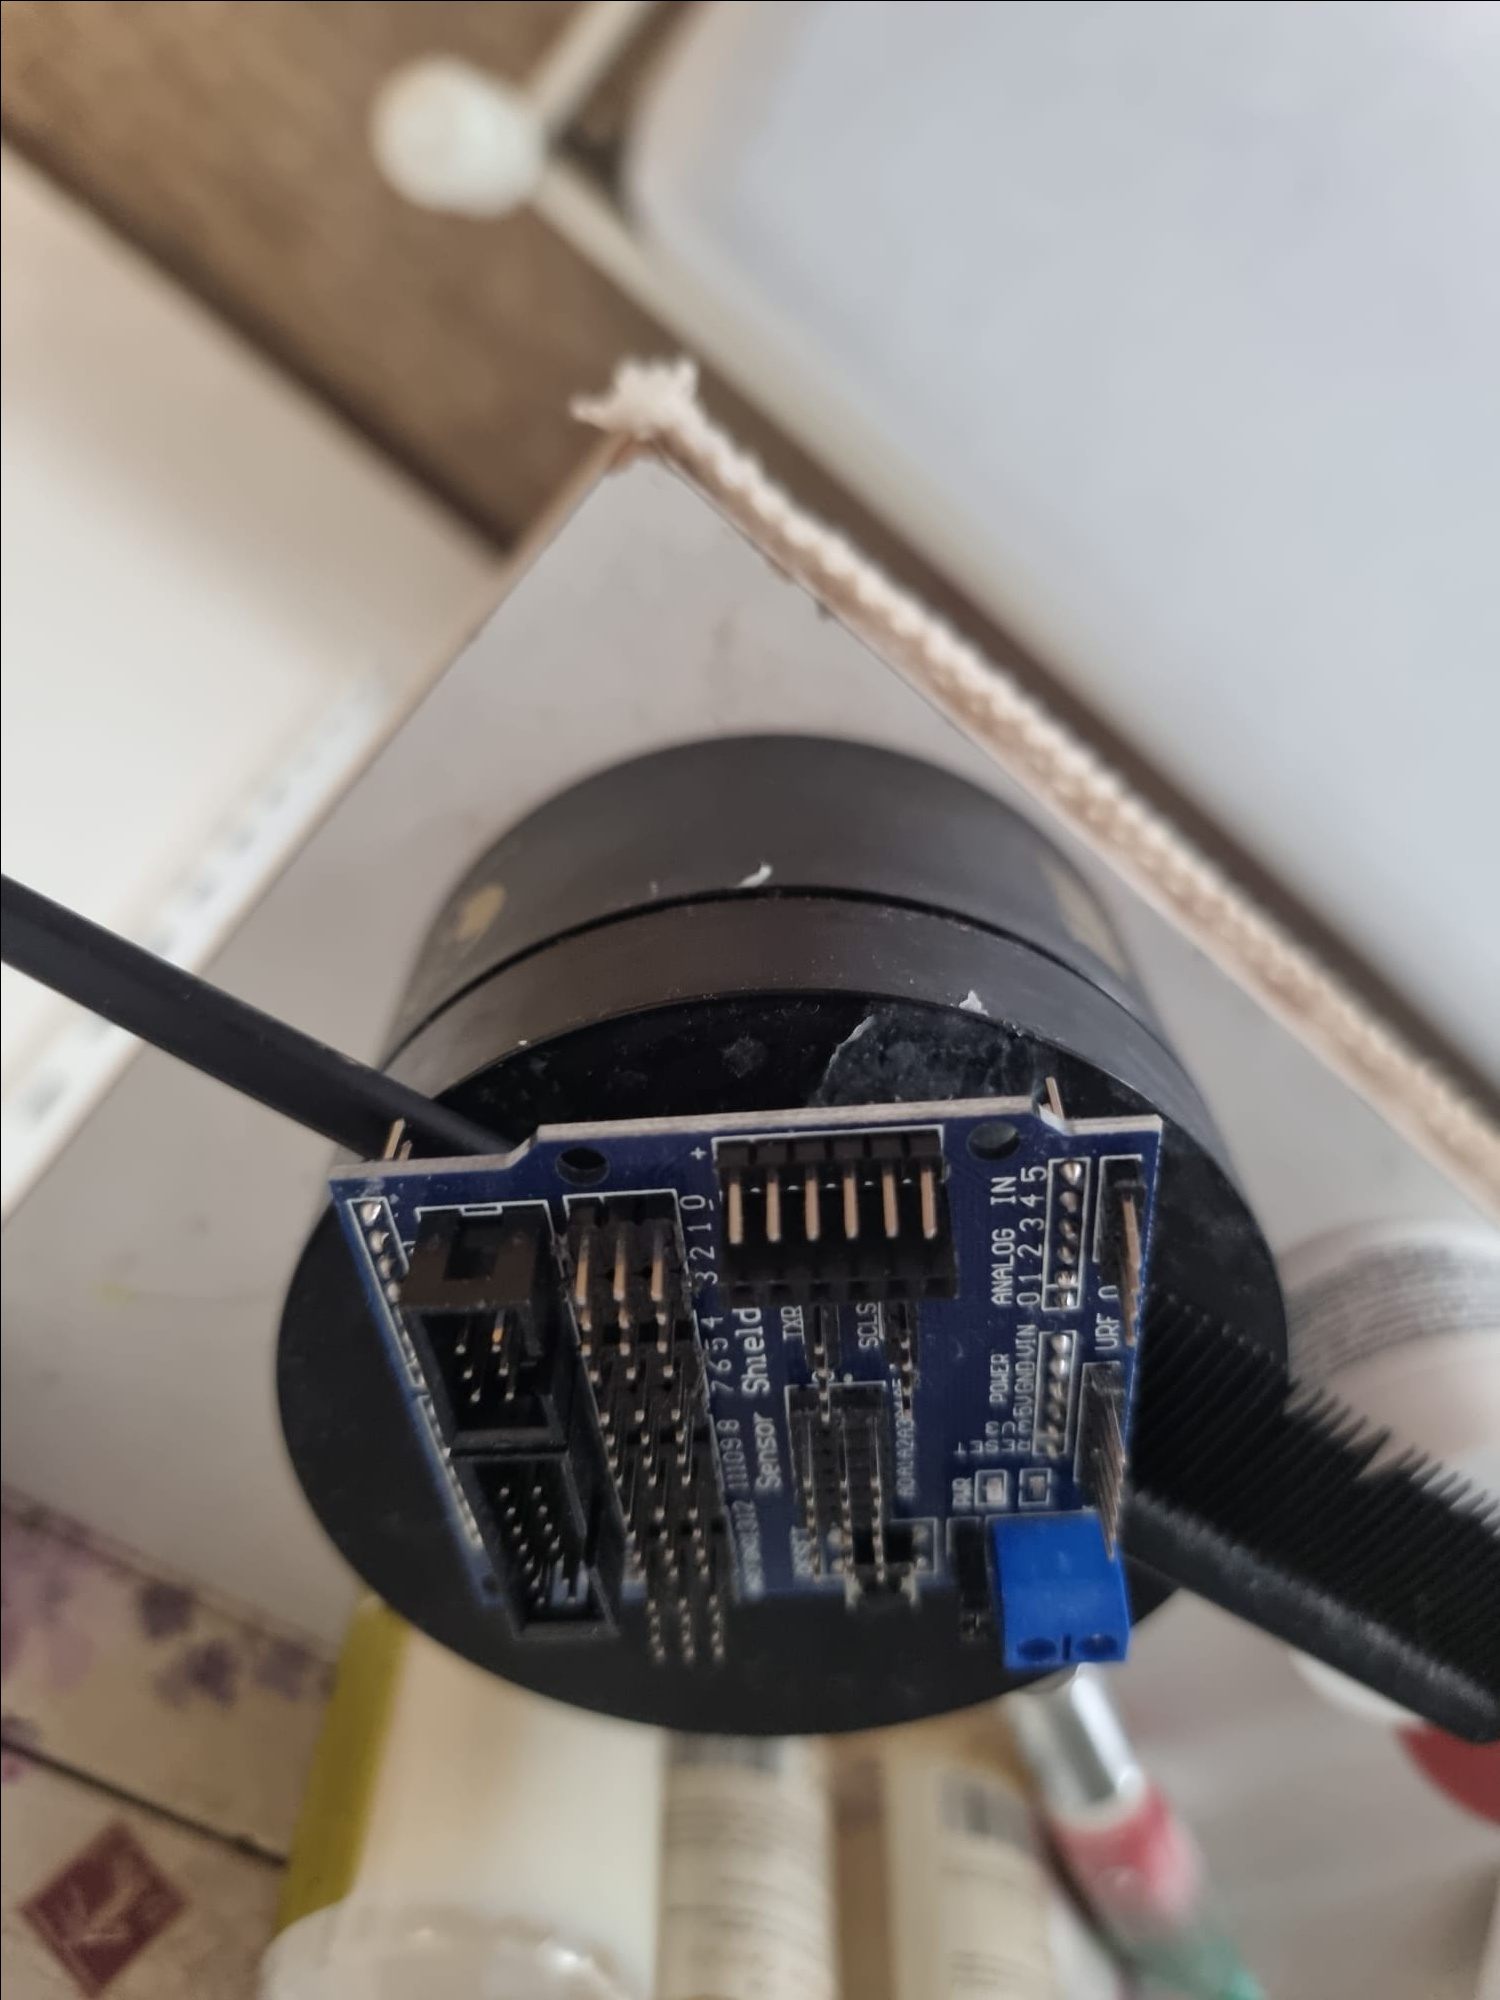5V EXPANSION: (336, 1143, 1150, 1676)
